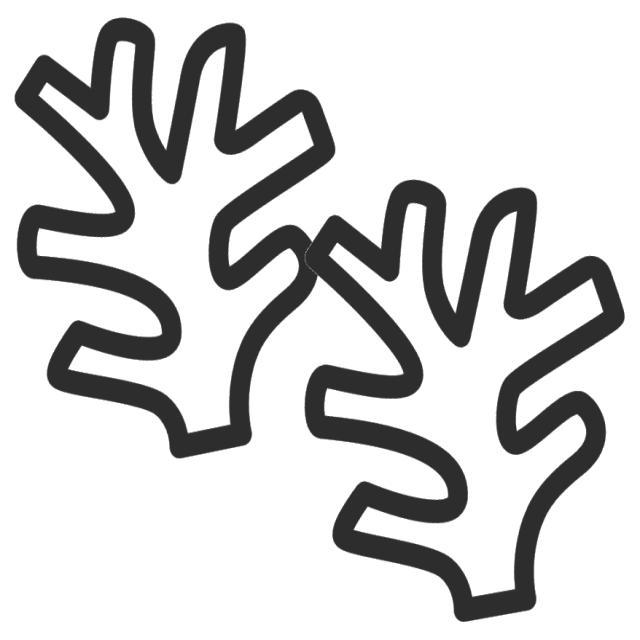coral: (8, 13, 351, 480), (297, 174, 630, 632)
